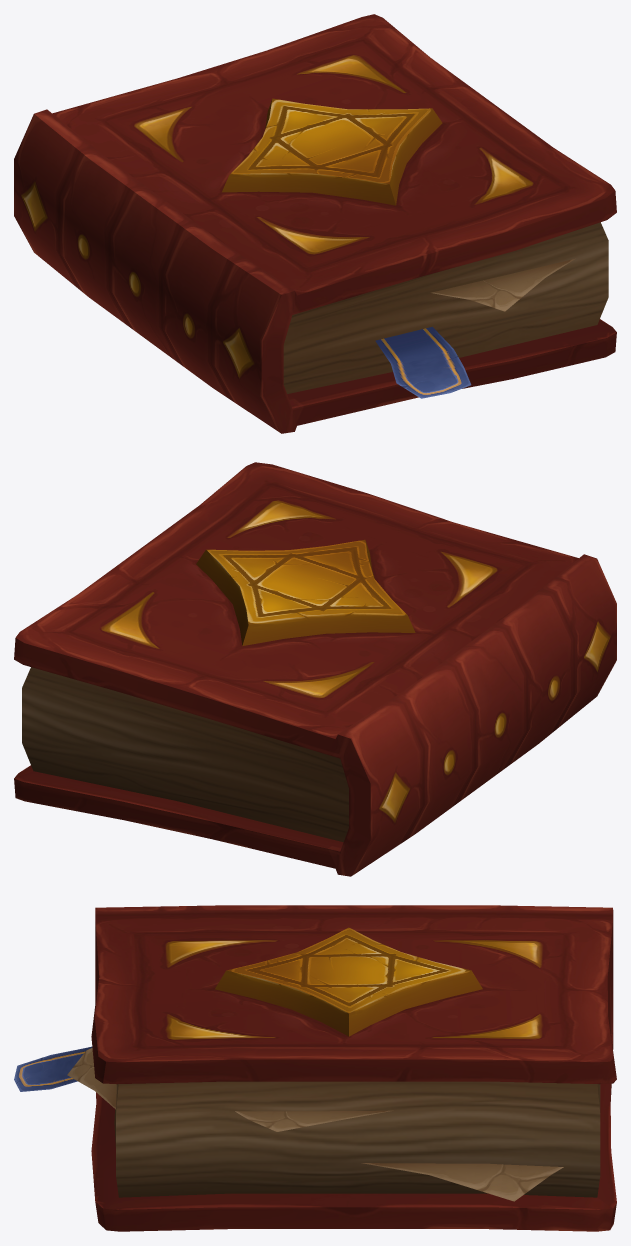
Rendered from Book_closed.FBX.
3 views of the same model, one above another, from view 1: azimuth 30°, elevation 25°; view 2: azimuth 150°, elevation 25°; view 3: azimuth 270°, elevation 25° (orthographic). The views are drawn at different scales.
Parts seen in each view (by area): view 1: Book_closed; view 2: Book_closed; view 3: Book_closed.
Part boxes in pixels (x1=…): Book_closed: x1=14, y1=14, x2=616, y2=433; Book_closed: x1=14, y1=462, x2=616, y2=876; Book_closed: x1=14, y1=905, x2=616, y2=1231.
Size of the model in its own units: 474 by 200 by 599.
